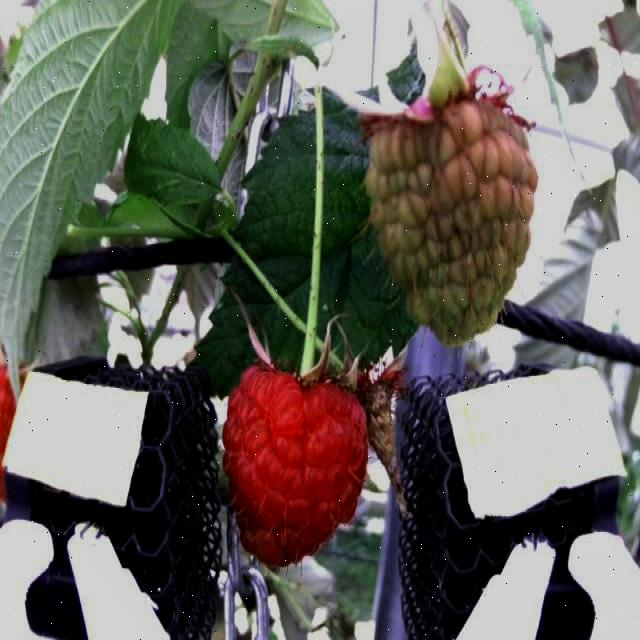Riped berries: (218, 353, 372, 566)
